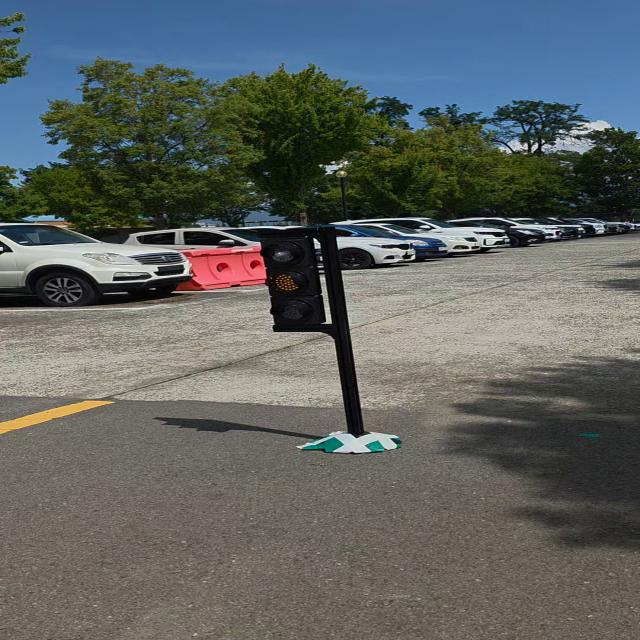yellow: (262, 232, 330, 332)
